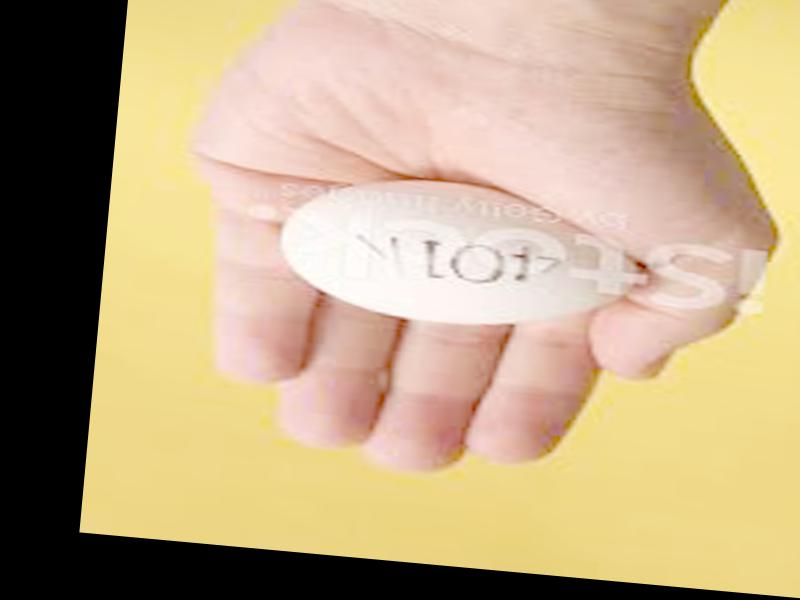Eggs: (275, 169, 644, 339)
